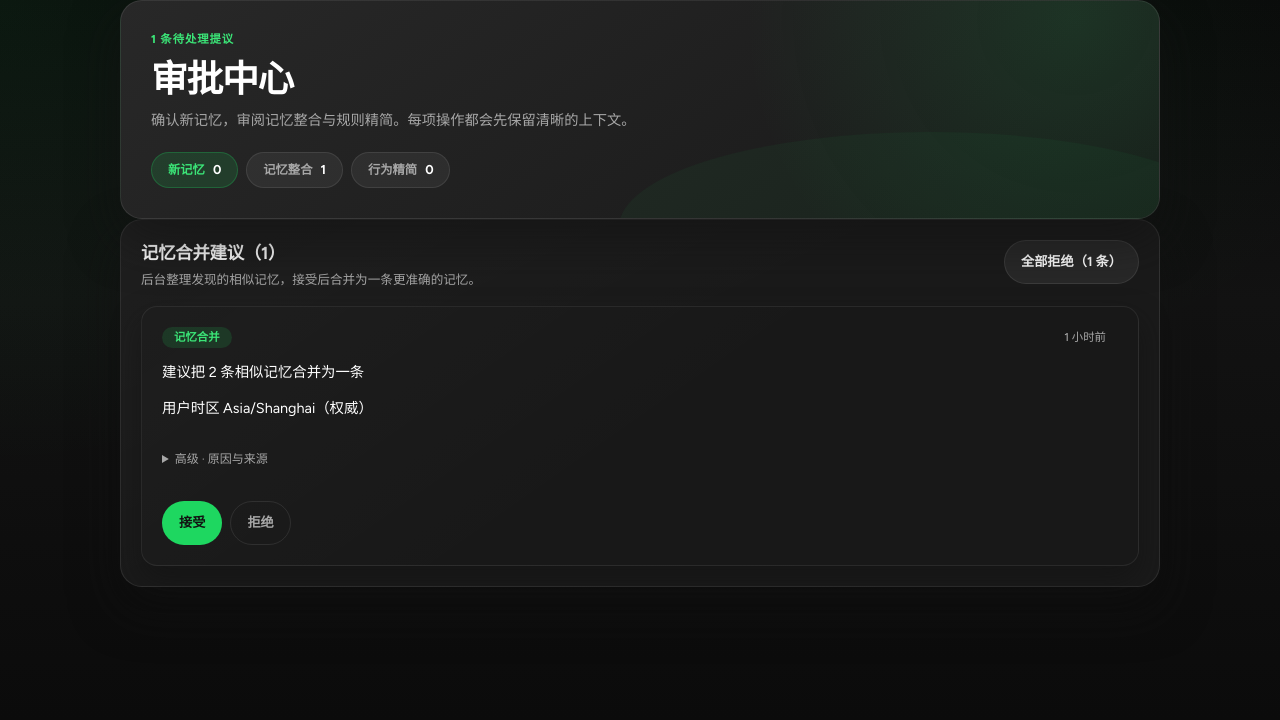
ApprovalCenterPage › conflict 终态：卡片移除 + 已失效 toast（不诱导重试）
This screenshot has width=1280, height=720.
Expected: the text "建议把 2 条相似记忆合并为一条" is shown, [162,363,364,381]
What coordinates should you click on to do the following:
click the button "接受"
I would click on:
 (192, 523)
Its box is [162,501,222,545].
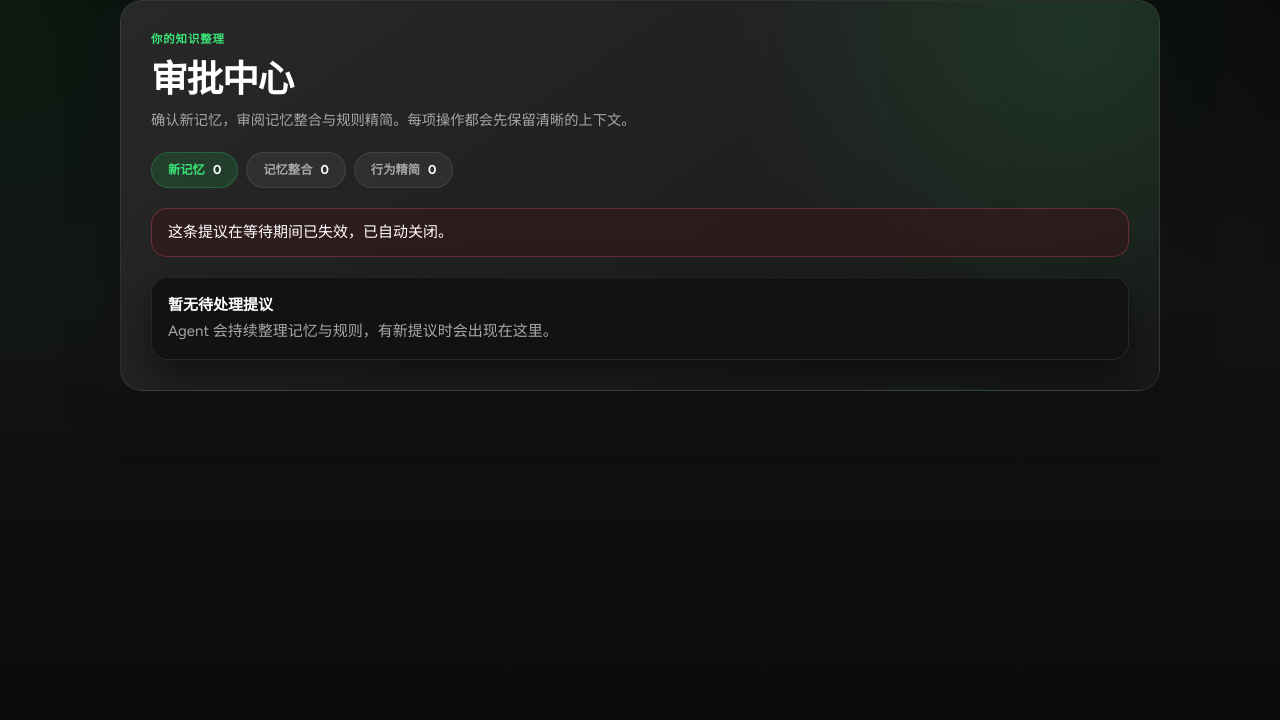
Expected: the text "建议把 2 条相似记忆合并为一条" is gone
Expected: the text "这条提议在等待期间已失效，已自动关闭。" is shown, [168,221,453,244]
